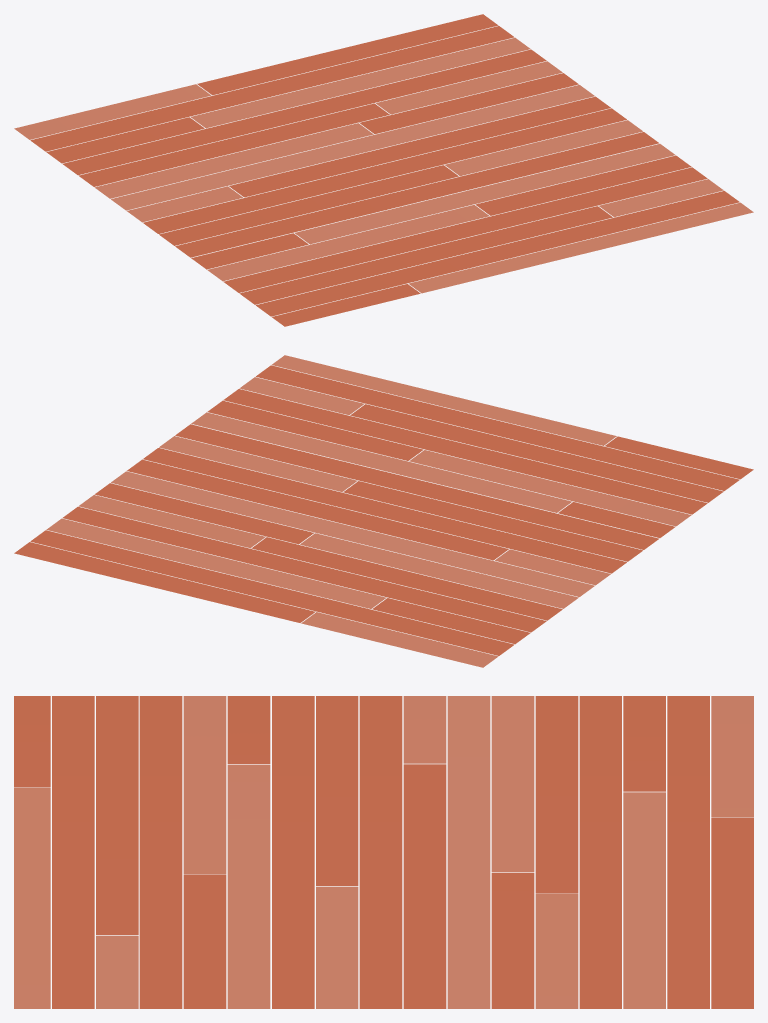
The model's file is floor_005.glb.
3 views of the same model, one above another, from view 1: azimuth 30°, elevation 25°; view 2: azimuth 150°, elevation 25°; view 3: azimuth 270°, elevation 25° (orthographic). The views are drawn at different scales.
Visible parts, largest first — view 1: floor_005; view 2: floor_005; view 3: floor_005.
Boxes of the visible parts, x1,y1,x2,y2 form: floor_005: [14, 14, 753, 326]; floor_005: [14, 355, 753, 667]; floor_005: [14, 696, 753, 1008].
Size of the model in its own units: 4 by 1.92e-06 by 4.
1 material, 1 textured.
